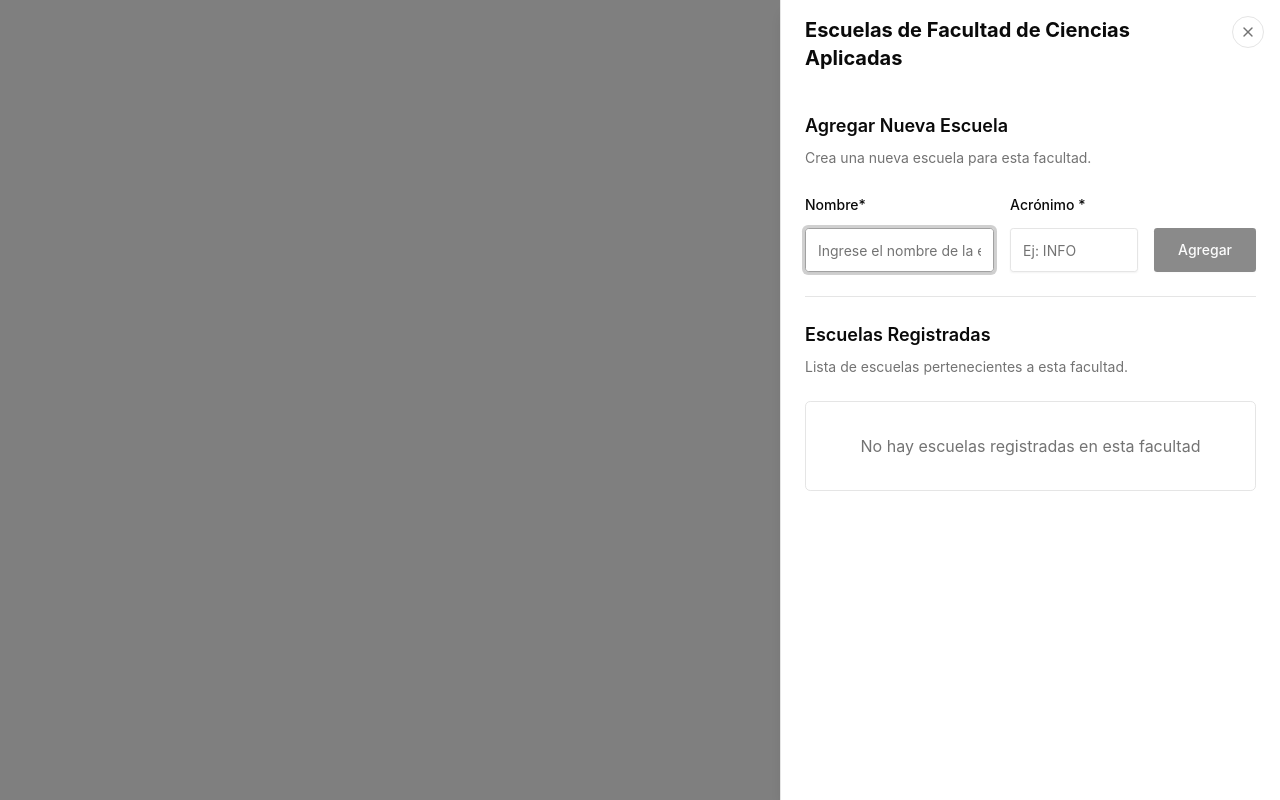
Test: FacultySchoolsSheet - CRUD Inline de Escuelas › debería habilitar el botón agregar con datos completos
The width and height of the screenshot is (1280, 800).
Type "Escuela de Informática" into the field with placeholder "Ingrese el nombre de la escuela" at (900, 250), box [805,228,994,272]
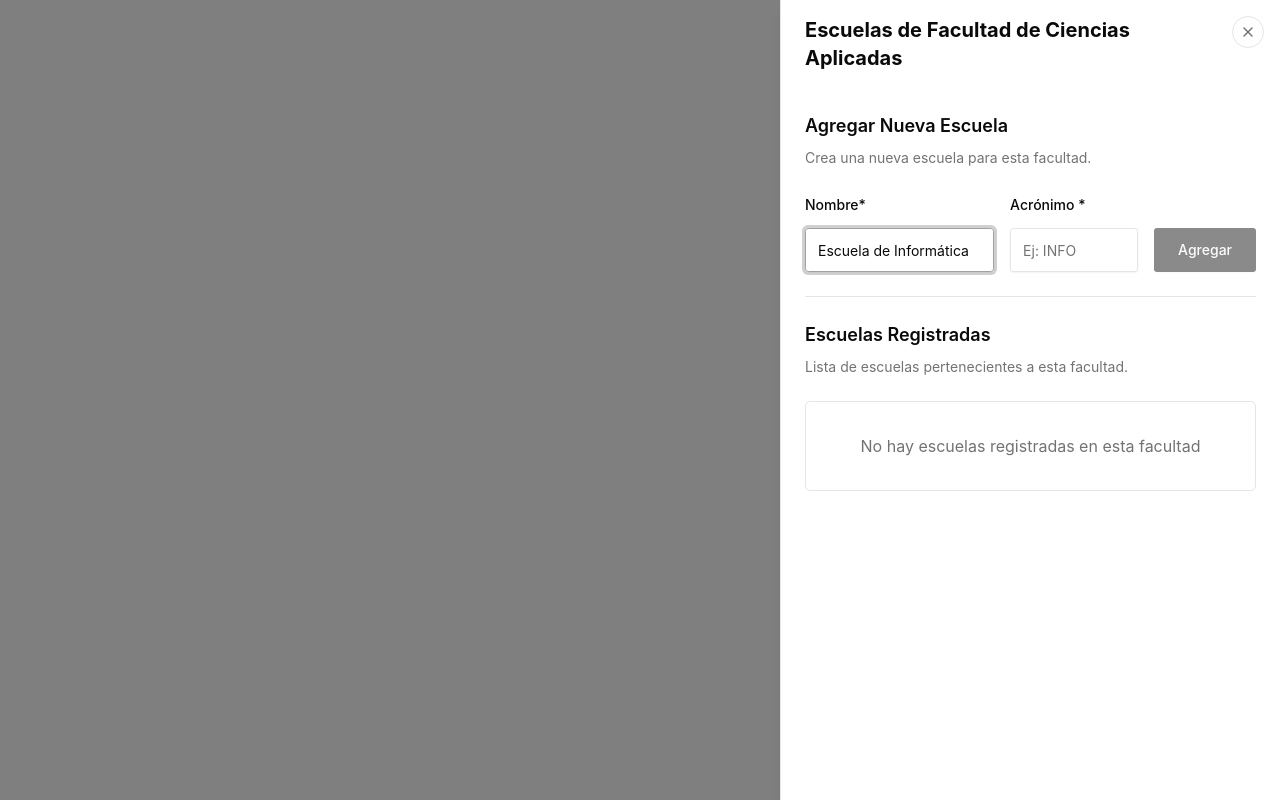
Type "INFO" into the field with placeholder "Ej: INFO" at (1074, 250), box [1010,228,1138,272]
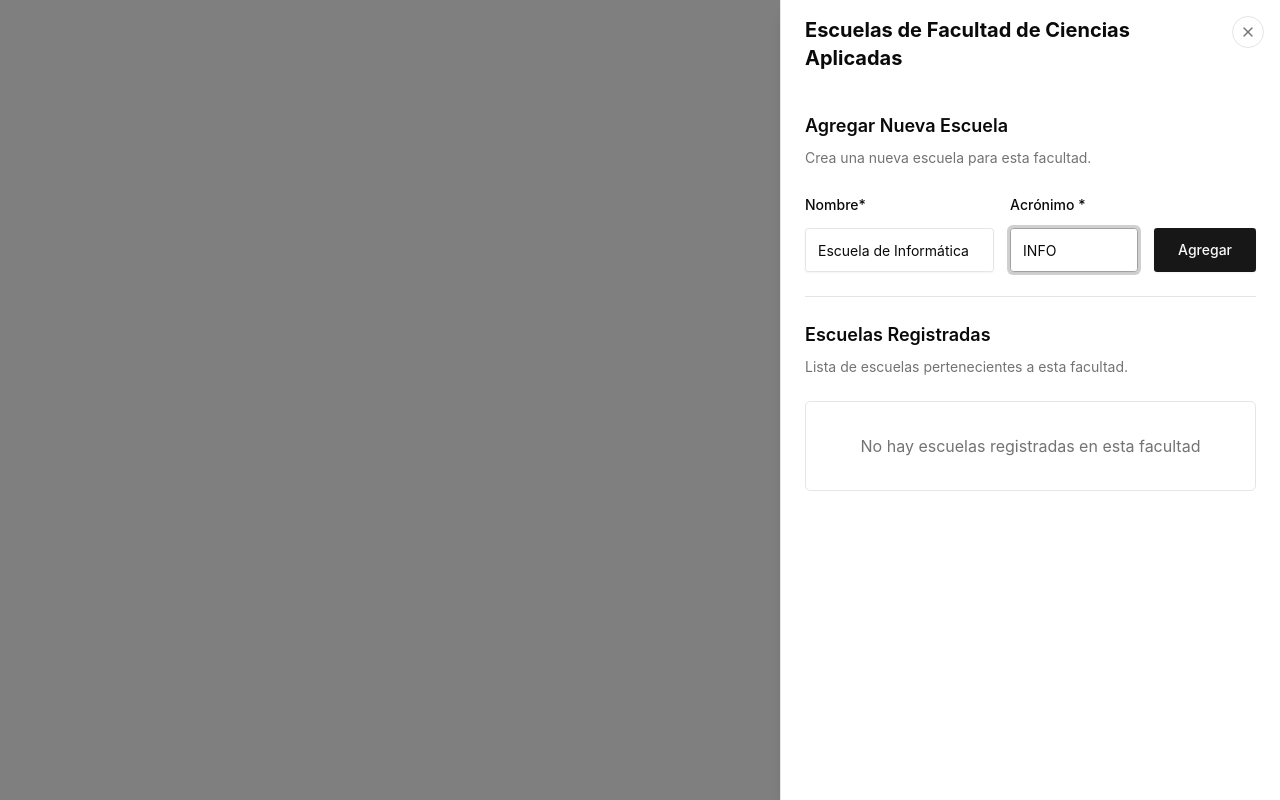
Check: the button "Agregar" is enabled, box [1154,228,1256,272]
